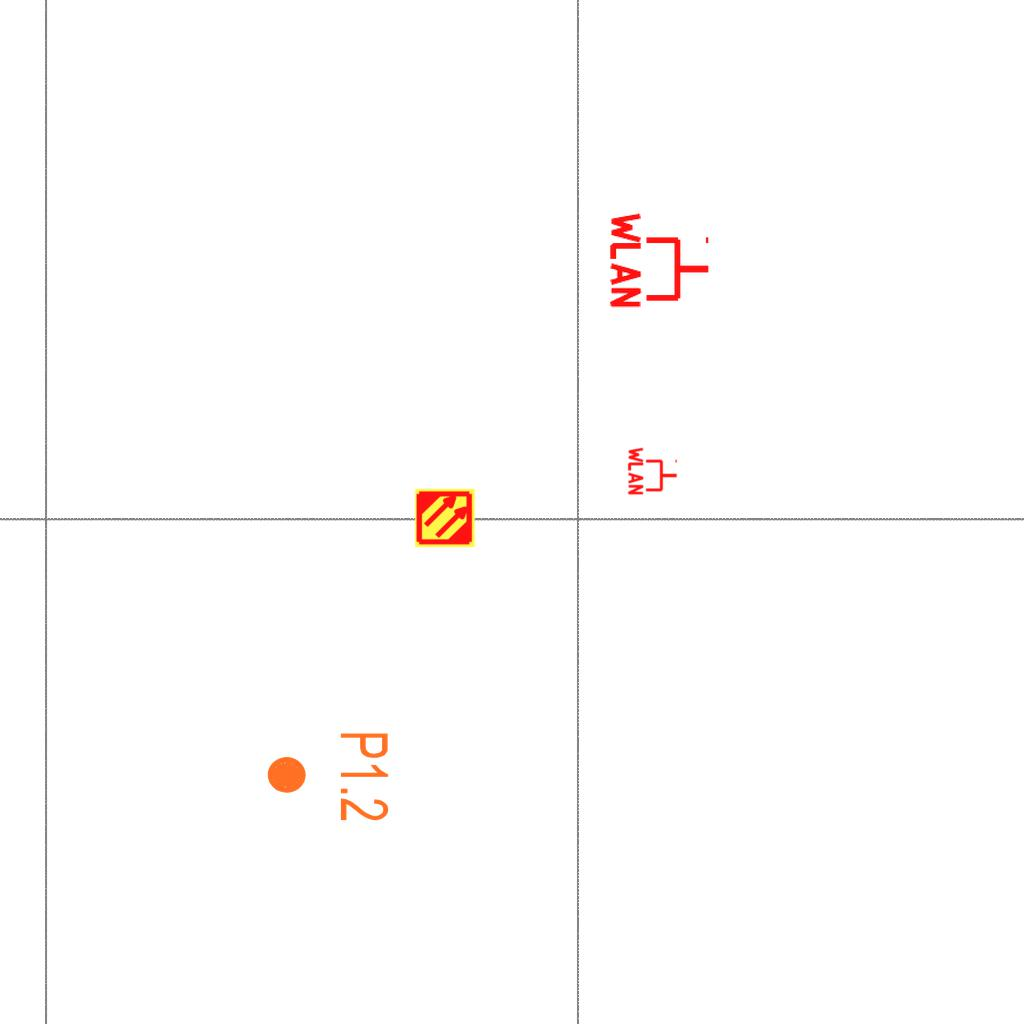ASR_Ansaugrauchmelder: (414, 487, 476, 549)
Downlight_LED_Einbauleuchten_Flur: (264, 730, 392, 823)
WLAN: (608, 208, 713, 312), (627, 445, 679, 497)
